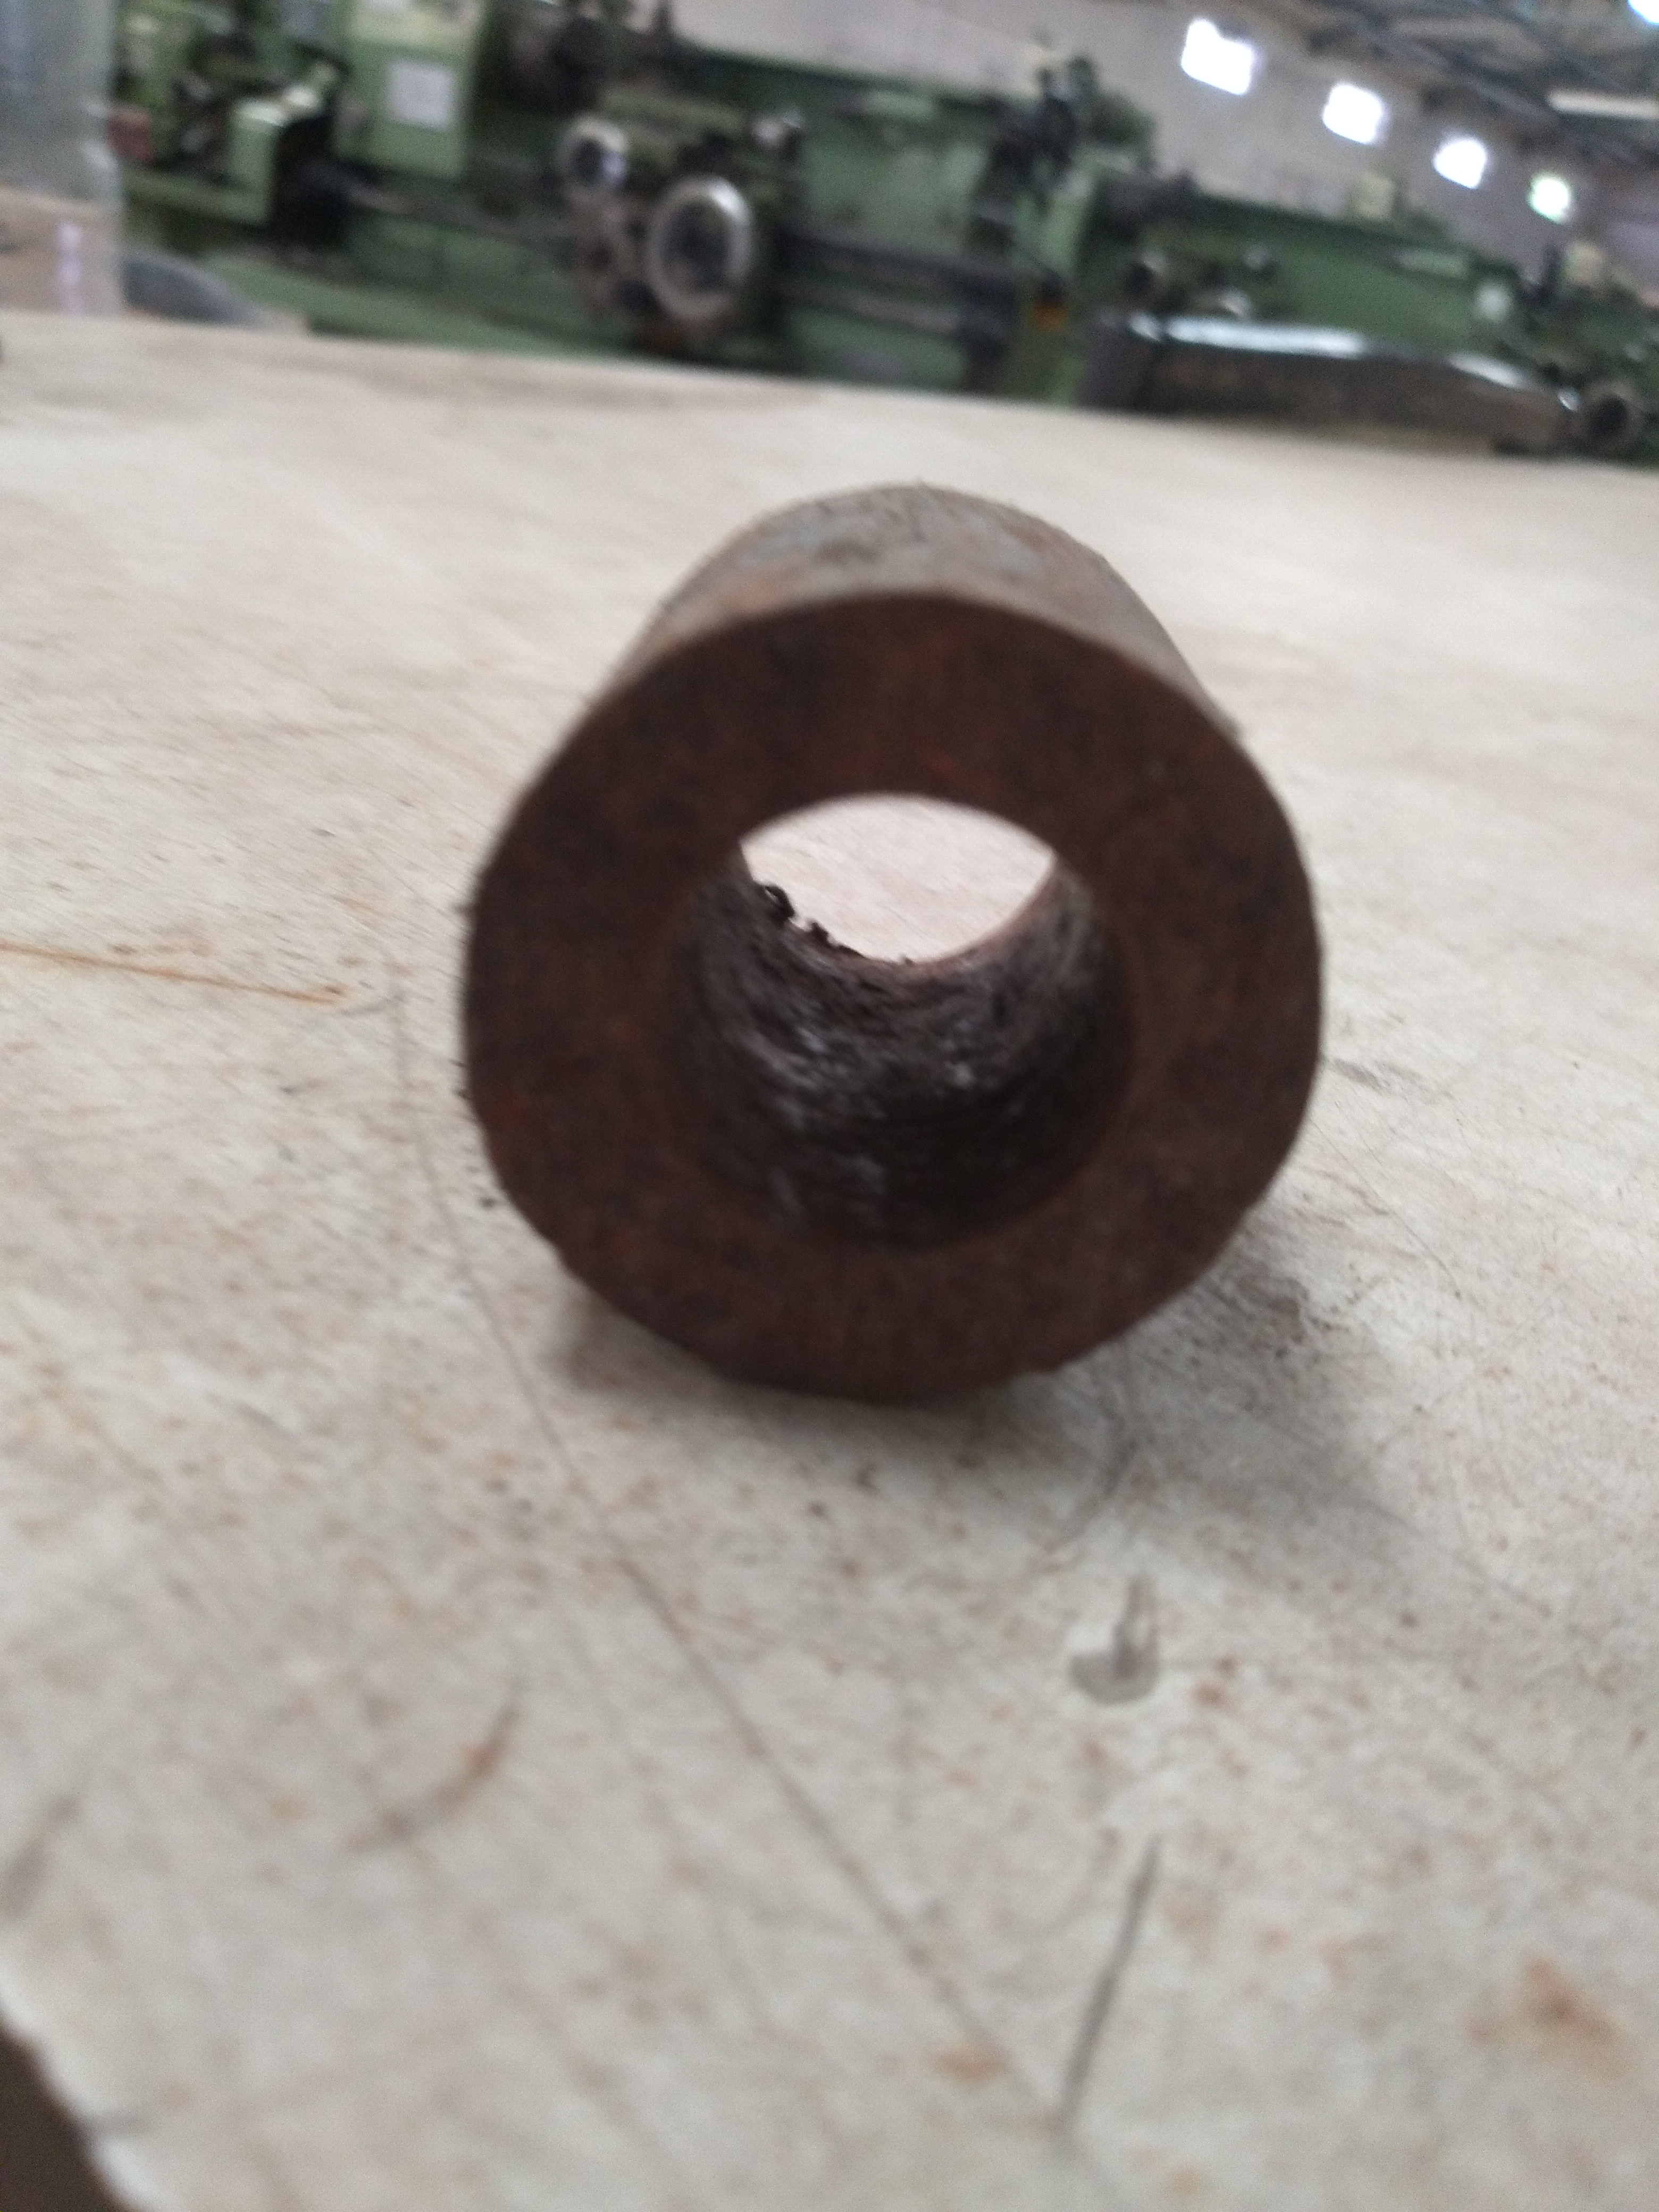No thread: (626, 709, 1178, 1292)
